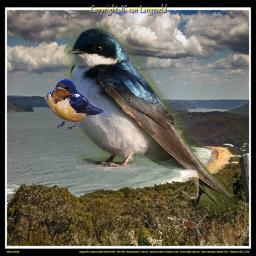Swallow: (64, 26, 234, 217), (44, 78, 112, 130)
